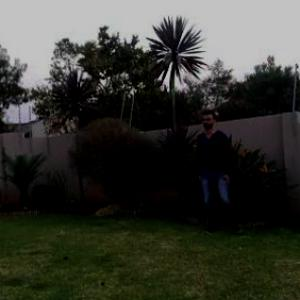follow: (196, 109, 233, 235)
